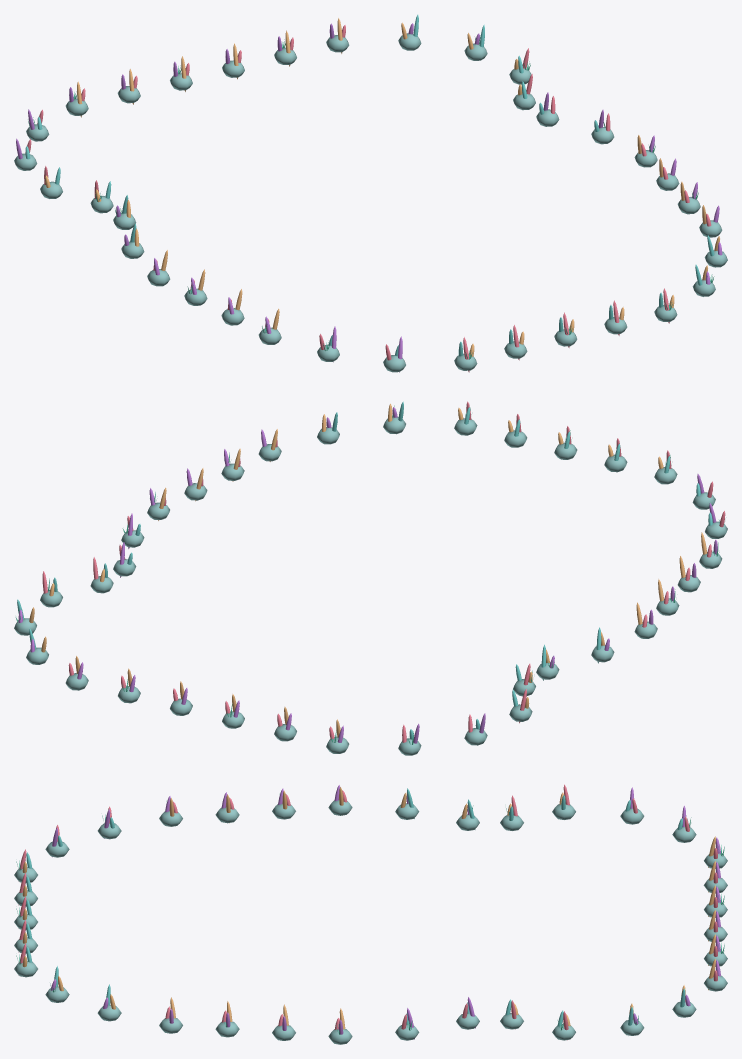
The model's file is reef-12-BiweqdtU.glb.
The picture shows the model from 3 angles, top to bottom: view 1: azimuth 30°, elevation 25°; view 2: azimuth 150°, elevation 25°; view 3: azimuth 270°, elevation 25°; orthographic projection. The views are drawn at different scales.
Visible parts, largest first — view 1: ReefRock, Coral2, Coral1, Coral0, Coral3; view 2: ReefRock, Coral2, Coral1, Coral0, Coral3; view 3: ReefRock, Coral2, Coral0, Coral1, Coral3.
Part boxes in pixels (x1,y1,x2,y2): ReefRock: (14, 33, 727, 372); Coral2: (45, 18, 719, 356); Coral1: (16, 23, 722, 372); Coral0: (25, 25, 711, 372); Coral3: (25, 14, 715, 356); ReefRock: (14, 417, 727, 755); Coral2: (29, 403, 707, 737); Coral1: (18, 407, 717, 743); Coral0: (42, 401, 725, 742); Coral3: (17, 401, 712, 739); ReefRock: (14, 799, 727, 1044); Coral2: (22, 787, 715, 1029); Coral0: (18, 784, 717, 1040); Coral1: (51, 785, 720, 1039); Coral3: (26, 788, 685, 1026).
Size of the model in its own units: 32.48 by 2.06 by 41.1.
